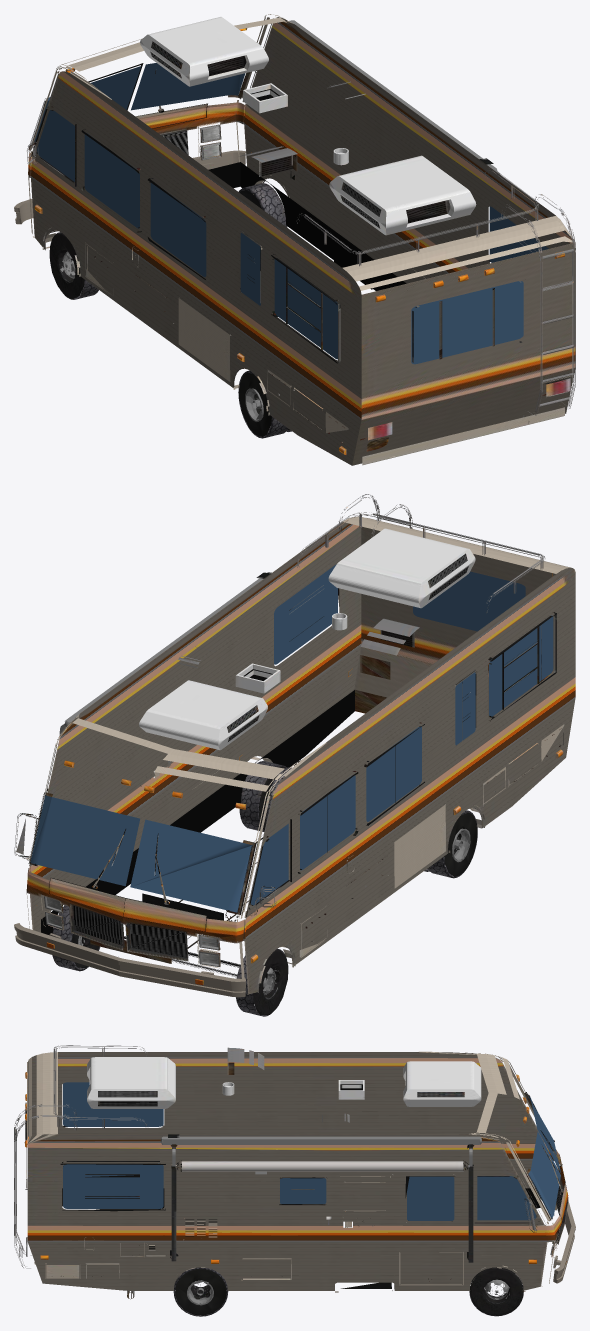
The model's file is bounder.glb.
3 views of the same model, one above another, from view 1: azimuth 30°, elevation 25°; view 2: azimuth 150°, elevation 25°; view 3: azimuth 270°, elevation 25° (orthographic). The views are drawn at different scales.
Visible parts, largest first — view 1: BlackMetal, winglass, tyresole, pureblack, Aluminium, plane_metal; view 2: BlackMetal, winglass, tyresole, pureblack, plane_metal, Aluminium; view 3: BlackMetal, winglass, tyresole, Aluminium, plane_metal, pureblack.
Boxes of the visible parts, <box> form: BlackMetal: <box>27,14,575,465</box>; winglass: <box>34,63,548,364</box>; tyresole: <box>49,183,291,438</box>; pureblack: <box>50,89,406,290</box>; Aluminium: <box>200,20,499,173</box>; plane_metal: <box>14,150,245,224</box>; BlackMetal: <box>14,494,575,994</box>; winglass: <box>30,564,553,912</box>; tyresole: <box>52,761,477,1016</box>; pureblack: <box>41,669,354,935</box>; plane_metal: <box>14,923,245,997</box>; Aluminium: <box>44,572,271,966</box>; BlackMetal: <box>14,1045,568,1299</box>; winglass: <box>63,1082,560,1220</box>; tyresole: <box>173,1267,523,1316</box>; Aluminium: <box>160,1136,555,1254</box>; plane_metal: <box>553,1201,575,1283</box>; pureblack: <box>62,1084,567,1249</box>.
Size of the model in its own units: 3.52 by 3.46 by 8.59.
Materials: 6 (3 with a texture image).
